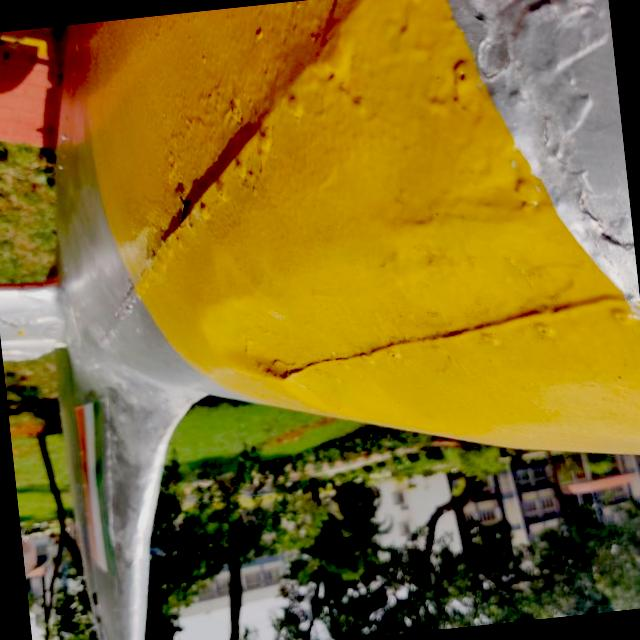dent: (180, 254, 332, 404)
